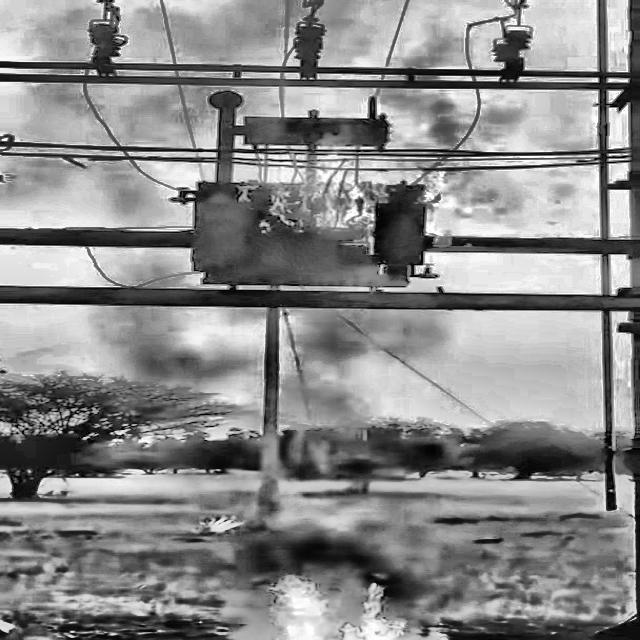Fire: (226, 123, 487, 284), (236, 555, 432, 640)
